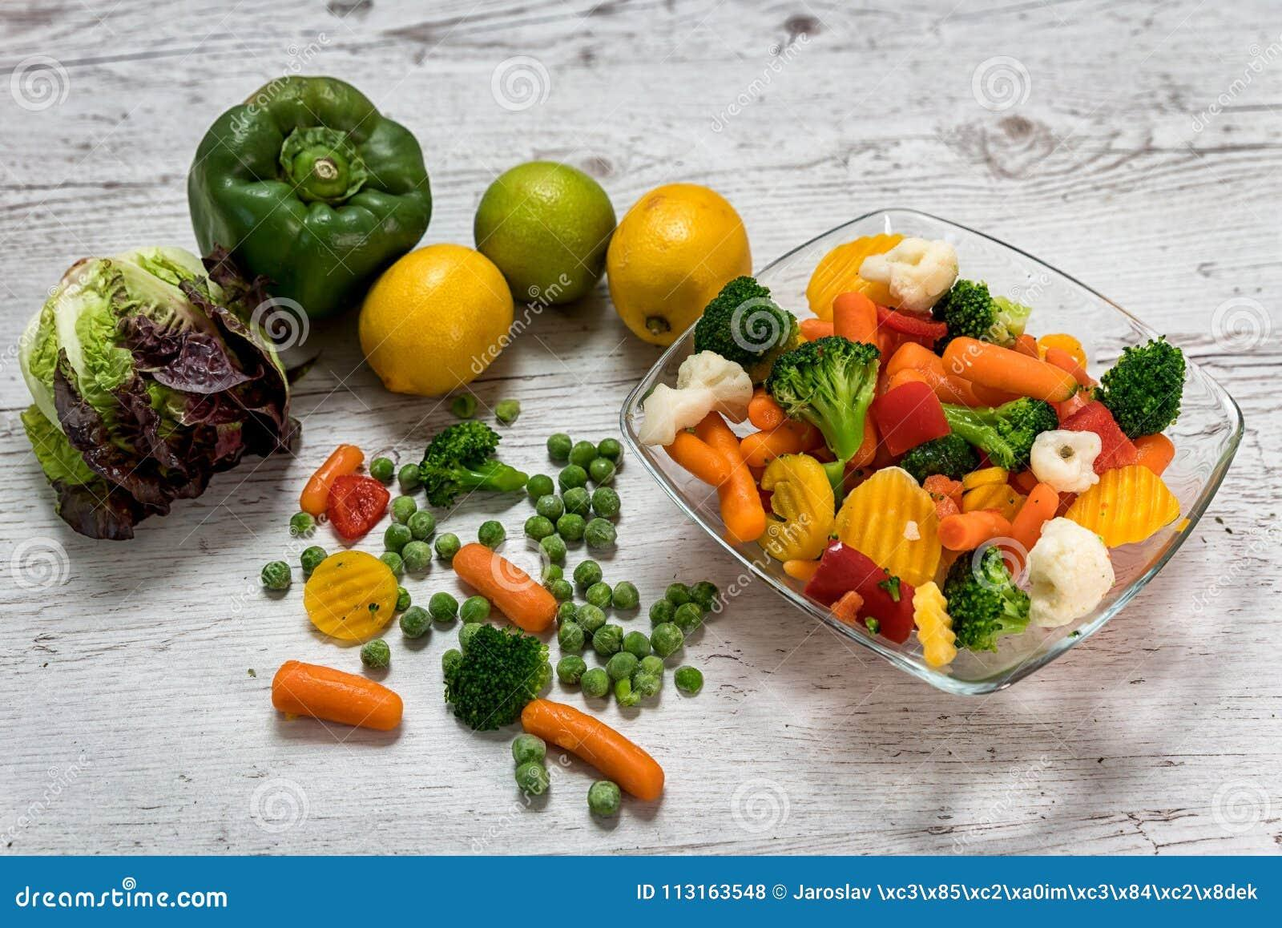bell pepper: (199, 48, 450, 258)
broccoli: (772, 334, 886, 457), (439, 621, 550, 732), (945, 547, 1033, 657), (1094, 336, 1190, 435), (940, 396, 1057, 470), (937, 279, 1034, 349)
carrot: (518, 702, 666, 807), (668, 410, 770, 542), (450, 542, 560, 633), (271, 661, 405, 734), (939, 335, 1080, 404), (295, 447, 362, 519), (1010, 483, 1061, 549), (935, 510, 1008, 553), (1132, 435, 1175, 478)
orange: (361, 244, 520, 398)
peas: (487, 449, 636, 543)
